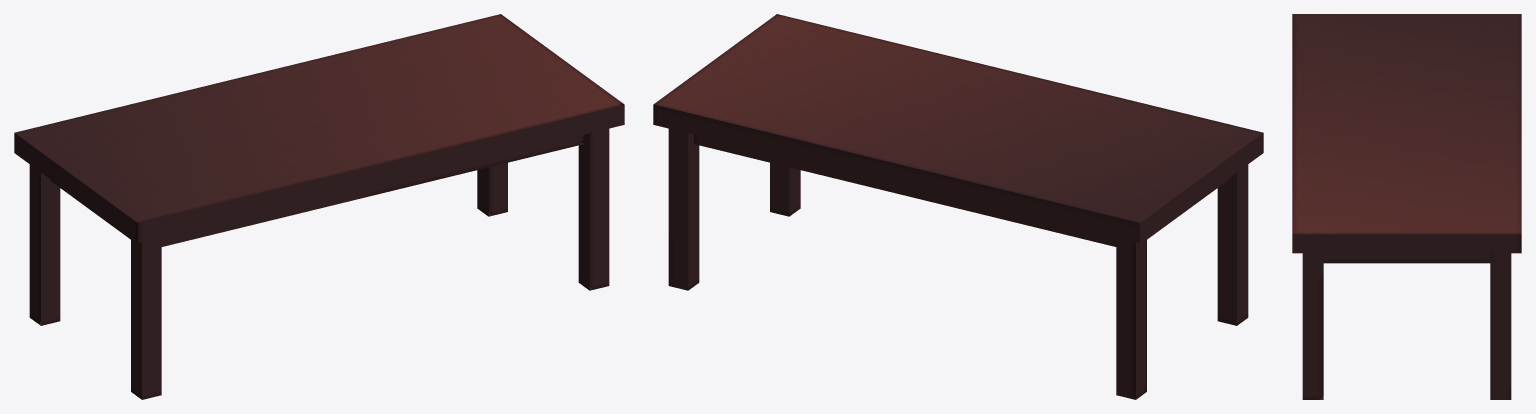
File: DinnerTable.fbx
3 views of the same model, side by side, from view 1: azimuth 30°, elevation 25°; view 2: azimuth 150°, elevation 25°; view 3: azimuth 270°, elevation 25° (orthographic). The views are drawn at different scales.
Parts seen in each view (by area): view 1: cube_4, cube_1, cube_2, cube_3, cube_6, cube; view 2: cube_4, cube, cube_3, cube_2, cube_5, cube_1; view 3: cube_4, cube, cube_1, cube_8.
Boxes of the visible parts, x1,y1,x2,y2 form: cube_4: (14, 14, 624, 243); cube_1: (578, 128, 609, 290); cube_2: (131, 238, 161, 399); cube_3: (29, 164, 60, 325); cube_6: (161, 135, 583, 246); cube: (477, 162, 507, 216); cube_4: (653, 14, 1263, 243); cube: (668, 128, 699, 290); cube_3: (1116, 238, 1146, 399); cube_2: (1217, 164, 1248, 325); cube_5: (694, 135, 1116, 246); cube_1: (770, 162, 800, 216); cube_4: (1292, 14, 1521, 253); cube: (1490, 253, 1511, 399); cube_1: (1302, 253, 1323, 399); cube_8: (1323, 253, 1490, 263).
Size of the model in its own units: 312 by 112 by 138.
1 material, 1 textured.
